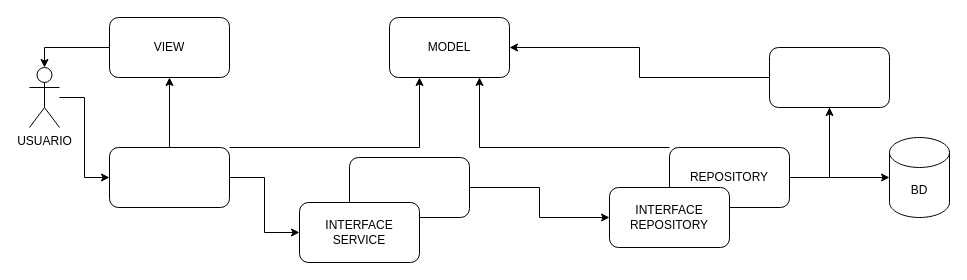
Some shapes in this 967 by 280 pixel diagram are drawn without their labels. The shapes that lost their labels are listed below. From the top down, each one's centre as x and y in pixels, then its label:
At (829,77): "CONTEXT".
At (169,177): "CONTROLLER".
At (409,187): "SERVICE".
